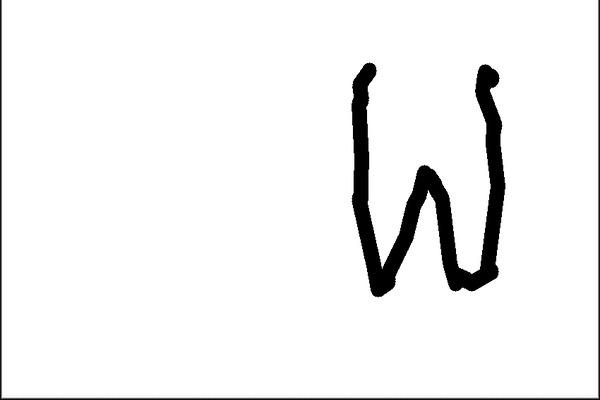w: (328, 57, 518, 305)
